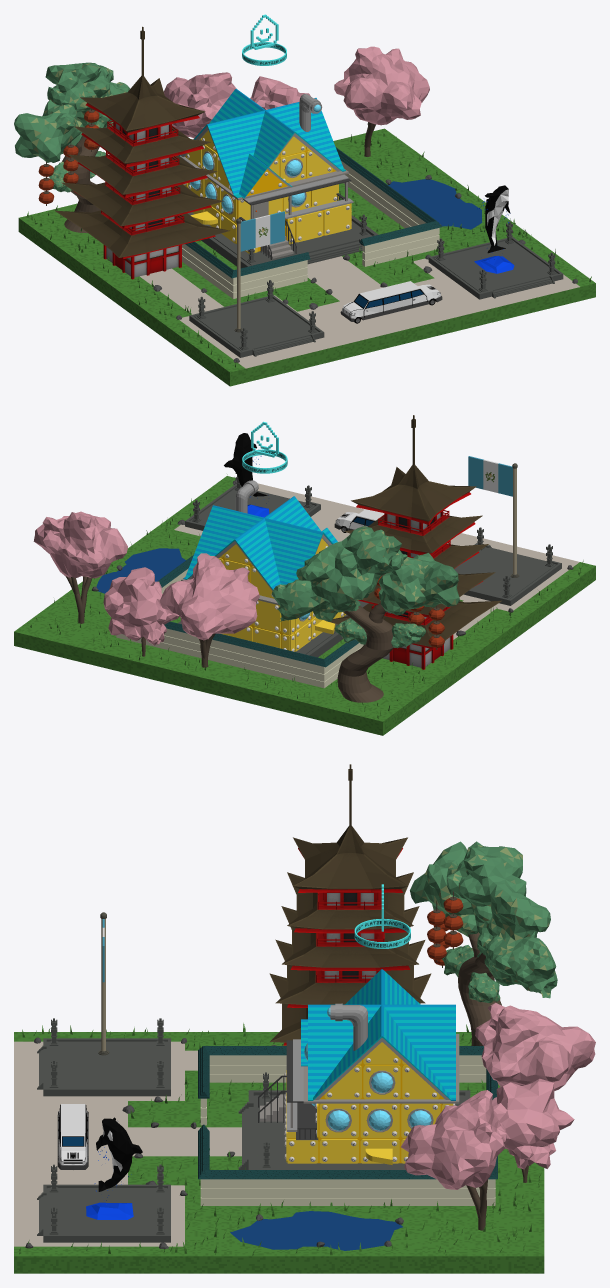
3 renders of one model, top to bottom at view 1: azimuth 30°, elevation 25°; view 2: azimuth 150°, elevation 25°; view 3: azimuth 270°, elevation 25°, orthographic. The views are drawn at different scales.
Visible parts, largest first — view 1: Cube.005, Cube.1366, VEHICLES_LIMOUSINE, OBJRANDOM_GUATEMALAN_FLAG, ANIMAL_ORCA, TYPE_PREMIUM; view 2: Cube.005, Cube.1366, OBJRANDOM_GUATEMALAN_FLAG, ANIMAL_ORCA, TYPE_PREMIUM, VEHICLES_LIMOUSINE; view 3: Cube.005, Cube.1366, ANIMAL_ORCA, VEHICLES_LIMOUSINE, TYPE_PREMIUM, OBJRANDOM_GUATEMALAN_FLAG.
Boxes of the visible parts, <box> form: Cube.005: <box>14,26,595,386</box>; Cube.1366: <box>178,88,353,259</box>; VEHICLES_LIMOUSINE: <box>340,281,442,323</box>; OBJRANDOM_GUATEMALAN_FLAG: <box>234,211,284,332</box>; ANIMAL_ORCA: <box>474,185,514,273</box>; TYPE_PREMIUM: <box>242,14,286,65</box>; Cube.005: <box>14,415,595,735</box>; Cube.1366: <box>181,480,345,651</box>; OBJRANDOM_GUATEMALAN_FLAG: <box>468,456,519,577</box>; ANIMAL_ORCA: <box>224,433,269,517</box>; TYPE_PREMIUM: <box>242,421,287,473</box>; VEHICLES_LIMOUSINE: <box>334,509,384,532</box>; Cube.005: <box>14,764,595,1273</box>; Cube.1366: <box>258,969,459,1164</box>; ANIMAL_ORCA: <box>86,1117,142,1219</box>; VEHICLES_LIMOUSINE: <box>57,1104,88,1169</box>; TYPE_PREMIUM: <box>354,884,410,948</box>; OBJRANDOM_GUATEMALAN_FLAG: <box>98,912,109,1055</box>.
Bounding box in the file's own units: 4528 × 2791 × 4389.
44 materials, 6 textured.
